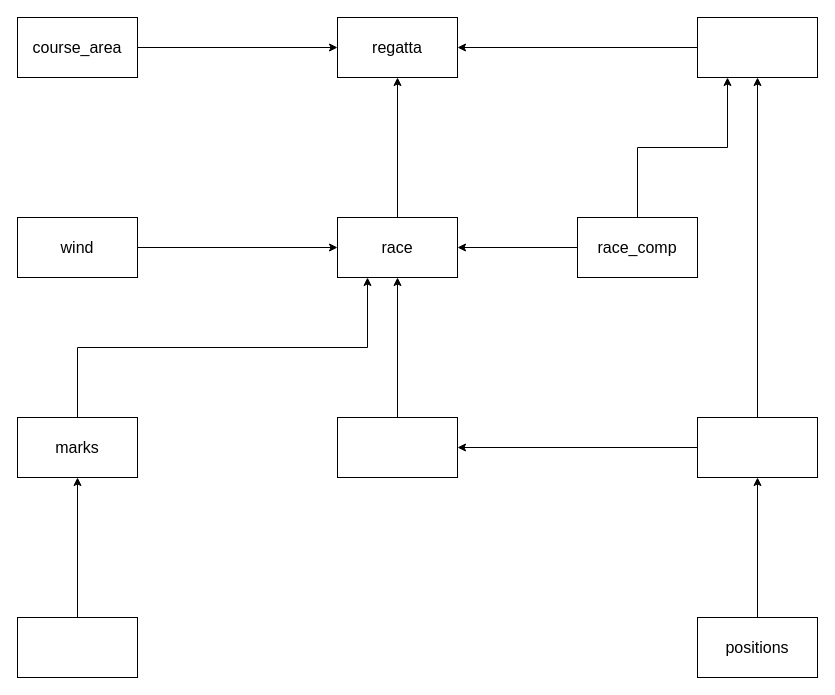
This 835x695 diagram has some shape labels left out. The shapes that lost their labels are listed below. From the top down, each one's centre as x and y in pixels, then its label:
(x=757, y=47): competitors
(x=397, y=447): leg
(x=757, y=447): comp_leg
(x=77, y=647): marks_positions
